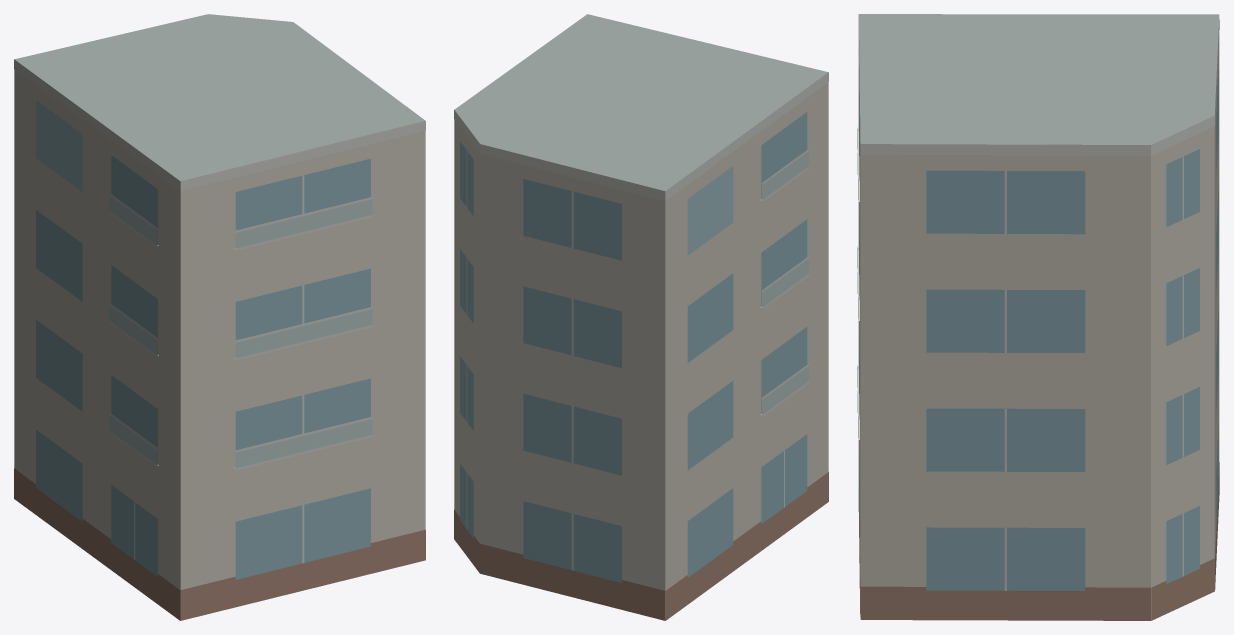
Rendered from survey-upis-32957765.glb.
The picture shows the model from 3 angles, left to right: view 1: azimuth 30°, elevation 25°; view 2: azimuth 150°, elevation 25°; view 3: azimuth 270°, elevation 25°; orthographic projection. The views are drawn at different scales.
Parts seen in each view (by area): view 1: survey-upis-32957765.tmp; view 2: survey-upis-32957765.tmp; view 3: survey-upis-32957765.tmp.
Part boxes in pixels (box(x1,y1,x2,y2)): survey-upis-32957765.tmp: box(14, 14, 425, 620); survey-upis-32957765.tmp: box(454, 14, 828, 620); survey-upis-32957765.tmp: box(857, 14, 1219, 620).
Bounding box in the file's own units: 6.45 × 10.85 × 7.49.
